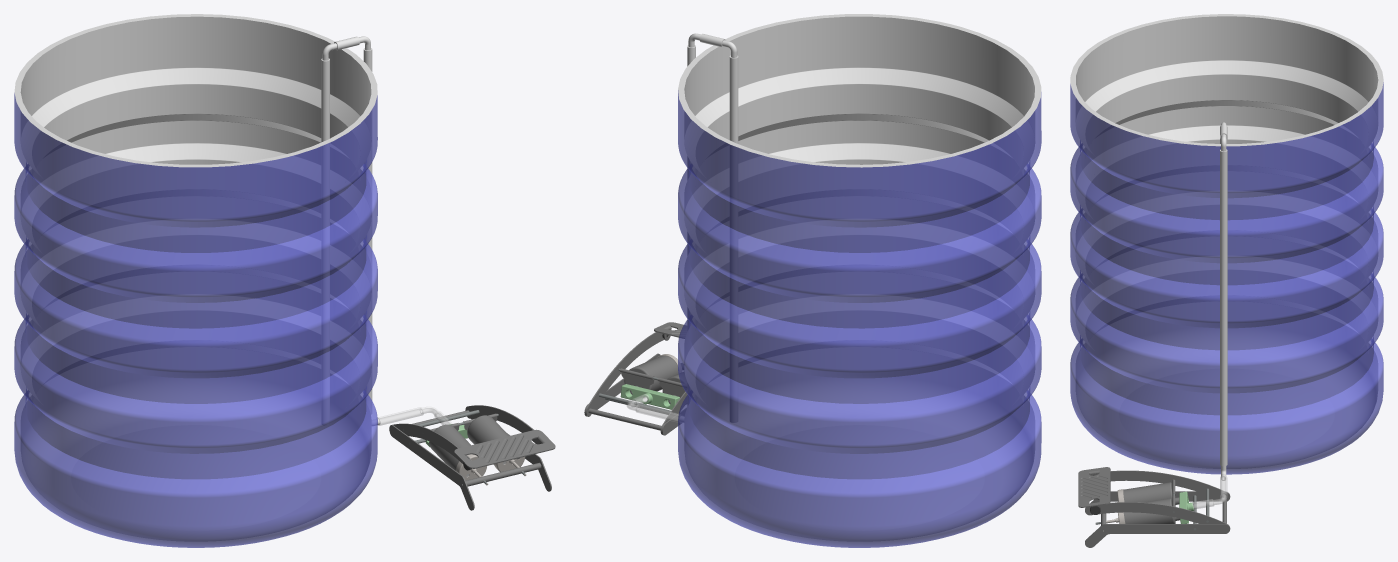
Rendered from ponces-1.glb.
The picture shows the model from 3 angles, left to right: view 1: azimuth 30°, elevation 25°; view 2: azimuth 150°, elevation 25°; view 3: azimuth 270°, elevation 25°; orthographic projection. The views are drawn at different scales.
Parts seen in each view (by area): view 1: galon-1, body Assembly, Foot Pedal-1, Base Arm-1, Cylinder-1, Cylinder-2, Pedal Arm-2, Pedal Arm-1; view 2: galon-1, body Assembly, Cylinder-1, Pedal Arm-1, Outlet Port-1; view 3: galon-1, body Assembly, Base Arm-2, Pedal Arm-2, Pedal Arm-1, Foot Pedal-1, Cylinder-2, Cylinder-1, Base Arm-1.
Part boxes in pixels (box(x1,y1,x2,y2)): galon-1: box(14, 14, 377, 547); body Assembly: box(321, 36, 452, 425); Foot Pedal-1: box(454, 429, 555, 469); Base Arm-1: box(389, 425, 474, 510); Cylinder-1: box(463, 413, 519, 465); Cylinder-2: box(429, 423, 470, 476); Pedal Arm-2: box(392, 423, 471, 469); Pedal Arm-1: box(465, 405, 537, 443); galon-1: box(678, 14, 1041, 547); body Assembly: box(630, 33, 738, 422); Cylinder-1: box(620, 355, 678, 394); Pedal Arm-1: box(585, 332, 664, 416); Outlet Port-1: box(620, 384, 679, 409); galon-1: box(1070, 14, 1383, 474); body Assembly: box(1192, 124, 1227, 509); Base Arm-2: box(1085, 524, 1230, 547); Pedal Arm-2: box(1091, 470, 1230, 501); Pedal Arm-1: box(1090, 502, 1229, 526); Foot Pedal-1: box(1078, 467, 1110, 507); Cylinder-2: box(1123, 479, 1179, 506); Cylinder-1: box(1123, 495, 1179, 523); Base Arm-1: box(1085, 491, 1229, 515).
Bounding box in the file's own units: 0.7957 × 0.747 × 0.5786.
